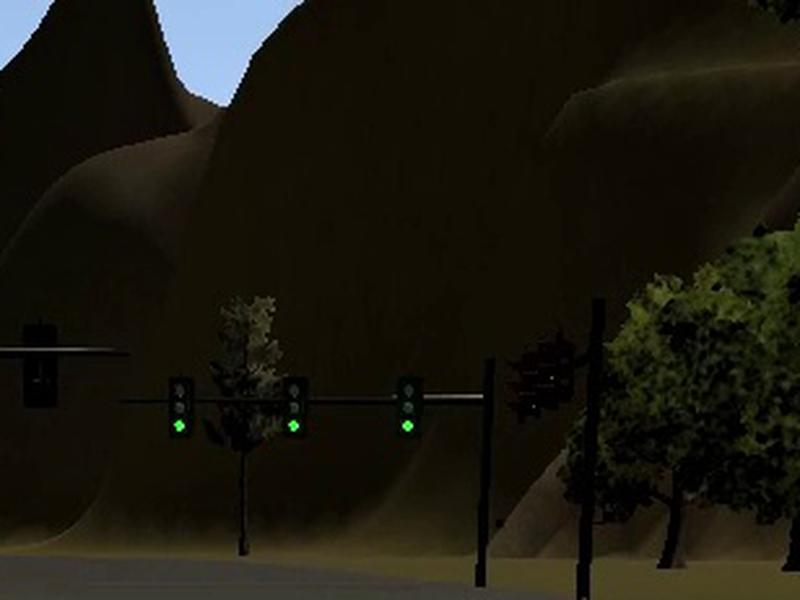Green: (168, 376, 196, 438), (397, 376, 424, 438), (284, 376, 309, 439)
